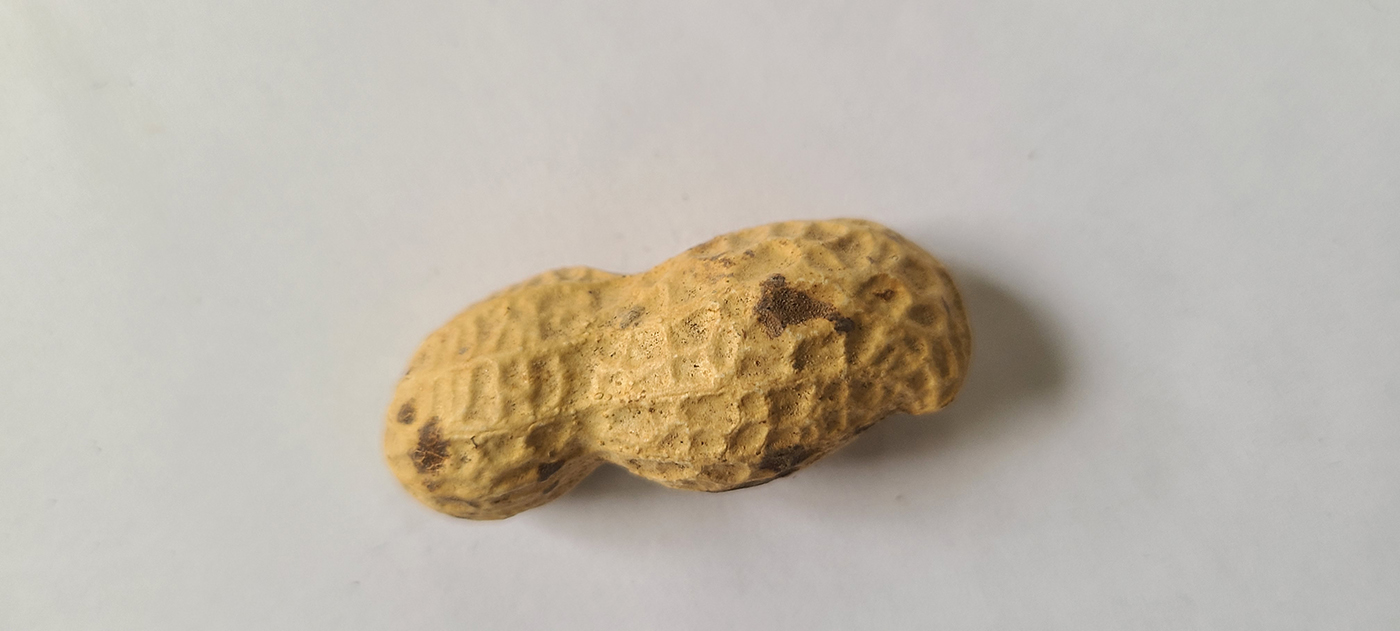h: (385, 211, 974, 522)
